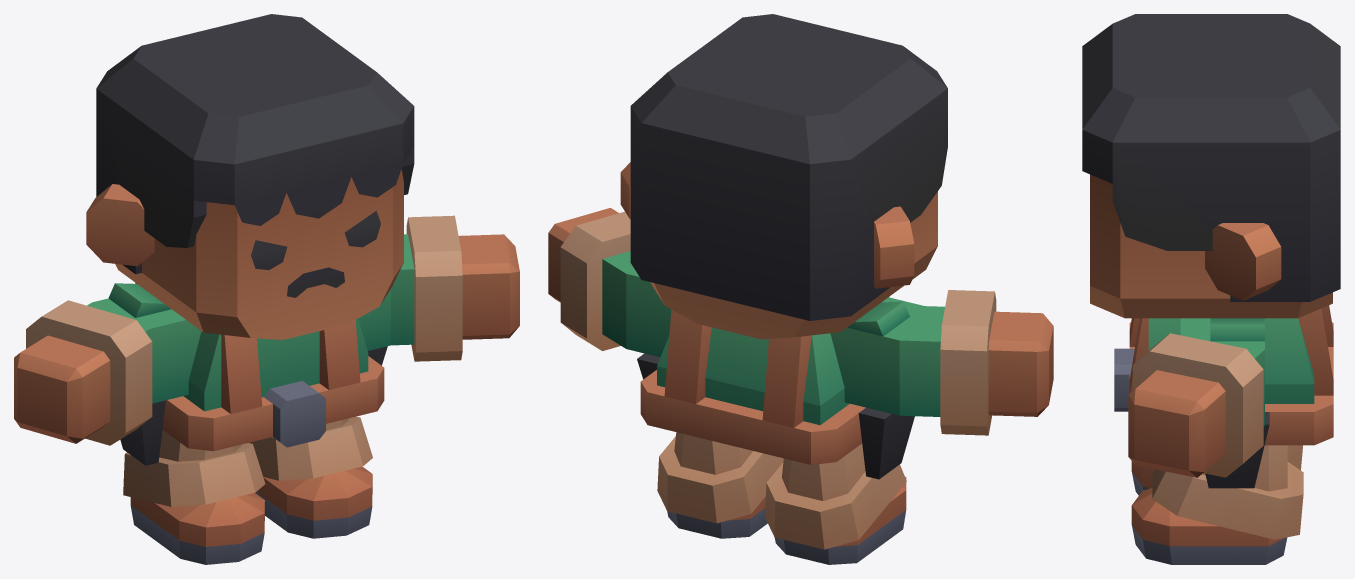
The model's file is citizen-male-f.glb.
3 views of the same model, side by side, from view 1: azimuth 30°, elevation 25°; view 2: azimuth 150°, elevation 25°; view 3: azimuth 270°, elevation 25° (orthographic).
Parts seen in each view (by area): view 1: citizen-male-f; view 2: citizen-male-f; view 3: citizen-male-f.
Boxes of the visible parts, x1,y1,x2,y2 form: citizen-male-f: (14,14,519,564); citizen-male-f: (548,14,1053,564); citizen-male-f: (1082,14,1340,564).
Size of the model in its own units: 1.14 by 1 by 0.5064.
